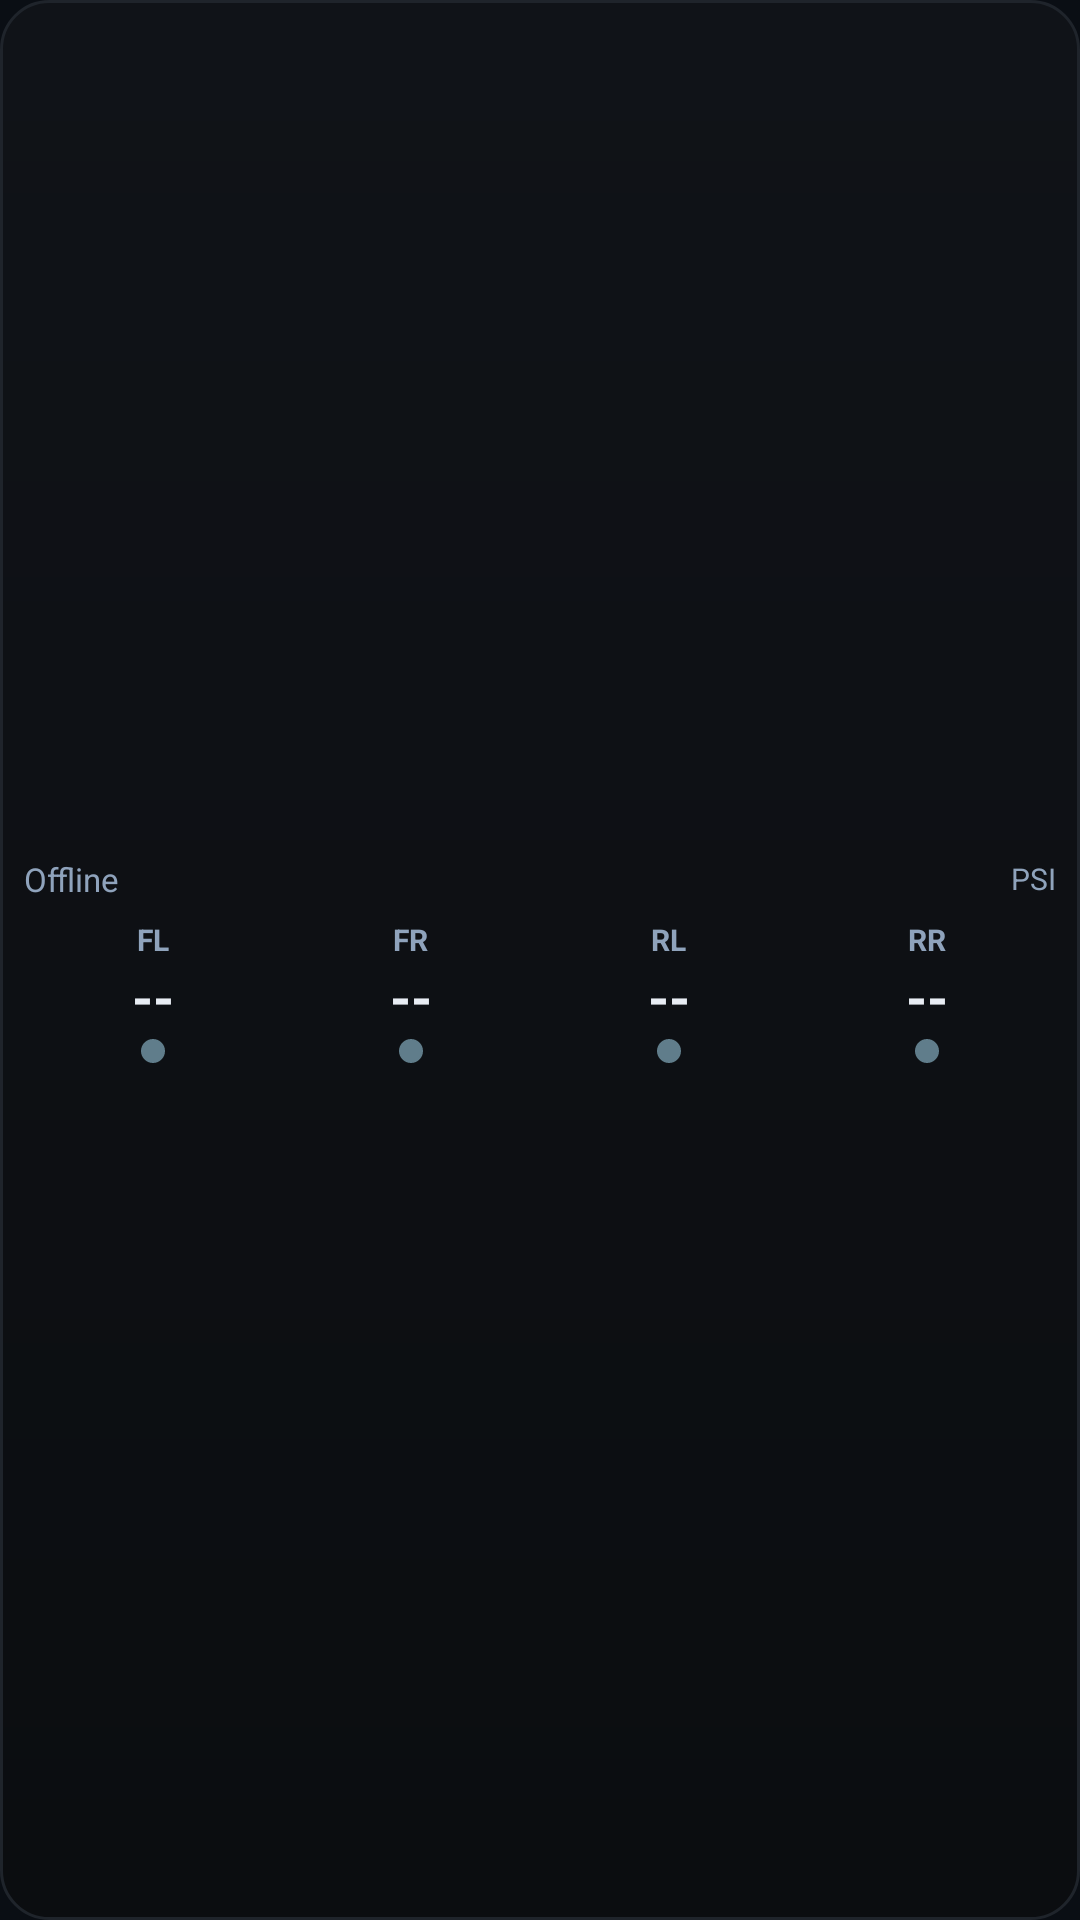

Named icons in this screenshot (1080×1920) and their bounding boxes, (x1, y1, x2, y2):
widget indicator empty: (141, 1039, 165, 1063), (399, 1039, 423, 1063), (657, 1039, 681, 1063), (915, 1039, 939, 1063)
